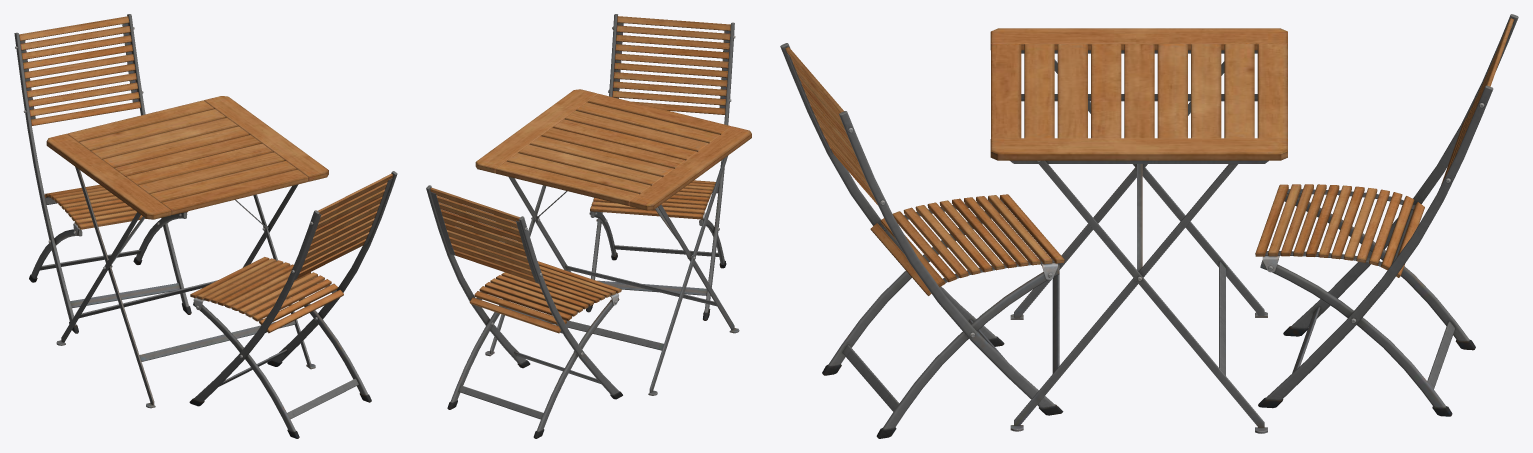
File: outdoor_table_chair_set_01.gltf
The picture shows the model from 3 angles, left to right: view 1: azimuth 30°, elevation 25°; view 2: azimuth 150°, elevation 25°; view 3: azimuth 270°, elevation 25°; orthographic projection. The views are drawn at different scales.
Parts seen in each view (by area): view 1: outdoor_table_chair_set_01_table, outdoor_table_chair_set_01_chair_02, outdoor_table_chair_set_01_chair_01; view 2: outdoor_table_chair_set_01_table, outdoor_table_chair_set_01_chair_02, outdoor_table_chair_set_01_chair_01; view 3: outdoor_table_chair_set_01_table, outdoor_table_chair_set_01_chair_01, outdoor_table_chair_set_01_chair_02.
Part boxes in pixels (box(x1,y1,x2,y2)): outdoor_table_chair_set_01_table: box(46, 96, 328, 408); outdoor_table_chair_set_01_chair_02: box(14, 14, 191, 333); outdoor_table_chair_set_01_chair_01: box(189, 171, 397, 438); outdoor_table_chair_set_01_table: box(475, 89, 751, 395); outdoor_table_chair_set_01_chair_02: box(426, 185, 622, 438); outdoor_table_chair_set_01_chair_01: box(586, 14, 735, 320); outdoor_table_chair_set_01_table: box(990, 28, 1287, 433); outdoor_table_chair_set_01_chair_01: box(780, 43, 1064, 438); outdoor_table_chair_set_01_chair_02: box(1255, 14, 1518, 416).
Size of the model in its own units: 0.7417 by 0.8586 by 1.72.
Materials: 2 (2 with a texture image).
